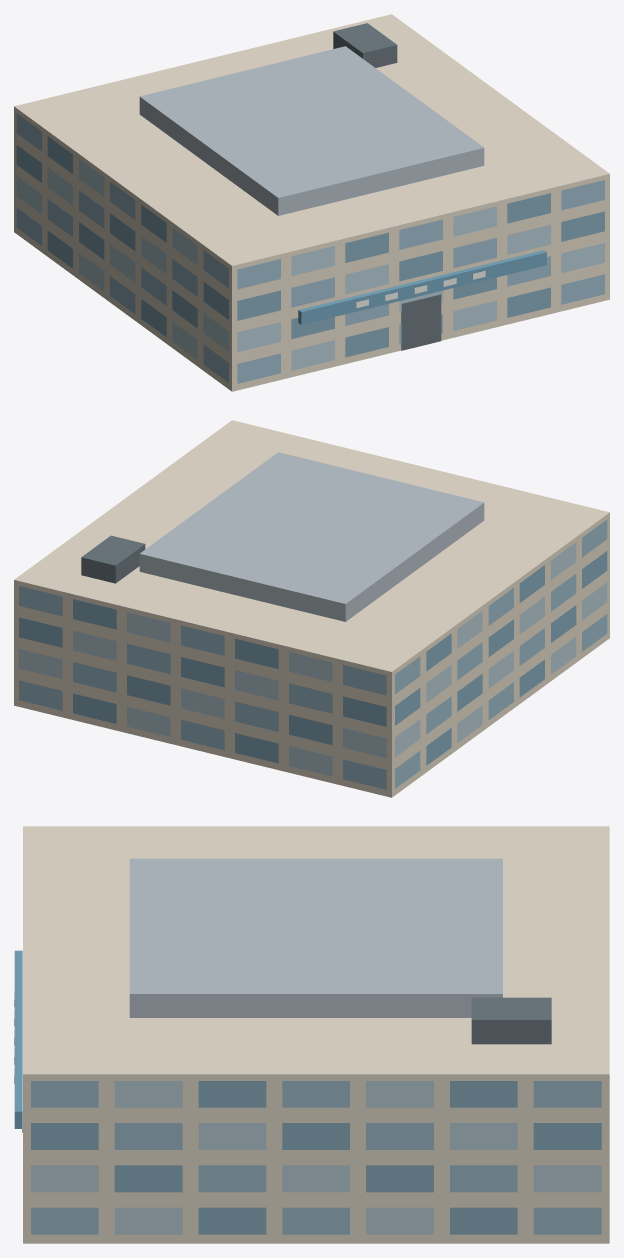
File: korea-building-1.glb
3 renders of one model, top to bottom at view 1: azimuth 30°, elevation 25°; view 2: azimuth 150°, elevation 25°; view 3: azimuth 270°, elevation 25°, orthographic. The views are drawn at different scales.
Bounding box in the file's own units: 11.02 × 4 × 11.18.
